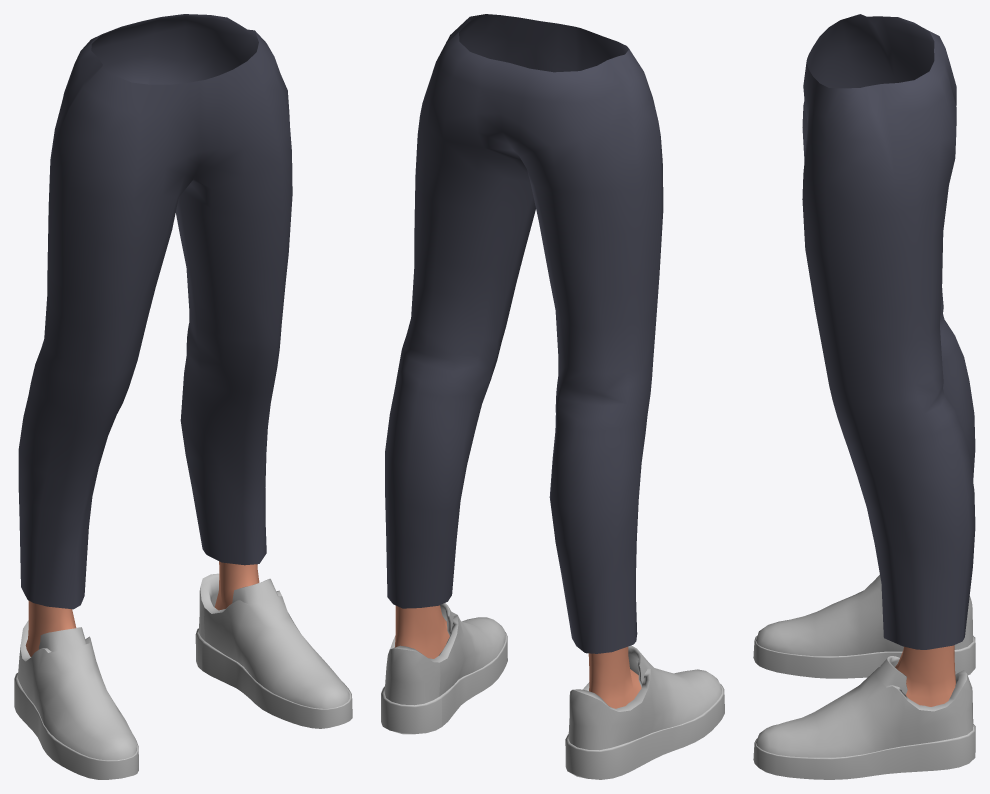
The model's file is woman1_lowerBody.glb.
The picture shows the model from 3 angles, left to right: view 1: azimuth 30°, elevation 25°; view 2: azimuth 150°, elevation 25°; view 3: azimuth 270°, elevation 25°; orthographic projection. The views are drawn at different scales.
Visible parts, largest first — view 1: Wolf3D_Outfit_Bottom, Wolf3D_Outfit_Footwear, Wolf3D_Body; view 2: Wolf3D_Outfit_Bottom, Wolf3D_Outfit_Footwear, Wolf3D_Body; view 3: Wolf3D_Outfit_Bottom, Wolf3D_Outfit_Footwear, Wolf3D_Body.
Part boxes in pixels (box(x1,y1,x2,y2)): Wolf3D_Outfit_Bottom: box(18, 14, 292, 609); Wolf3D_Outfit_Footwear: box(14, 573, 352, 779); Wolf3D_Body: box(25, 561, 259, 656); Wolf3D_Outfit_Bottom: box(385, 14, 663, 653); Wolf3D_Outfit_Footwear: box(381, 603, 724, 779); Wolf3D_Body: box(394, 605, 641, 708); Wolf3D_Outfit_Bottom: box(802, 14, 975, 649); Wolf3D_Outfit_Footwear: box(753, 574, 975, 779); Wolf3D_Body: box(895, 645, 955, 706).
Bounding box in the file's own units: 4.75 × 10.85 × 3.3.
